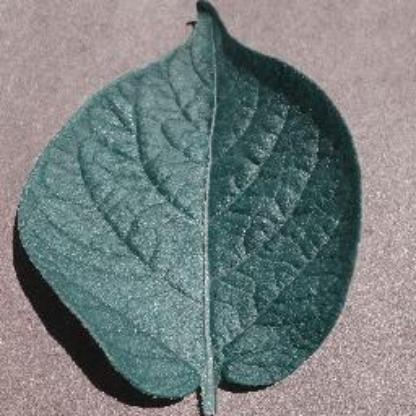Healthy-plant: (17, 0, 363, 414)
